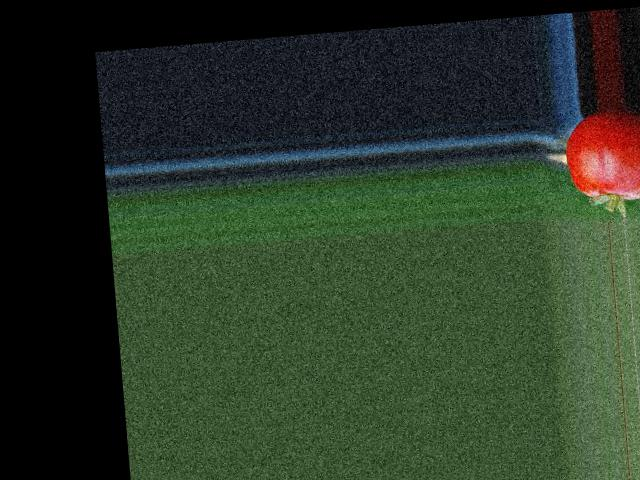tomato: (562, 105, 640, 204)
